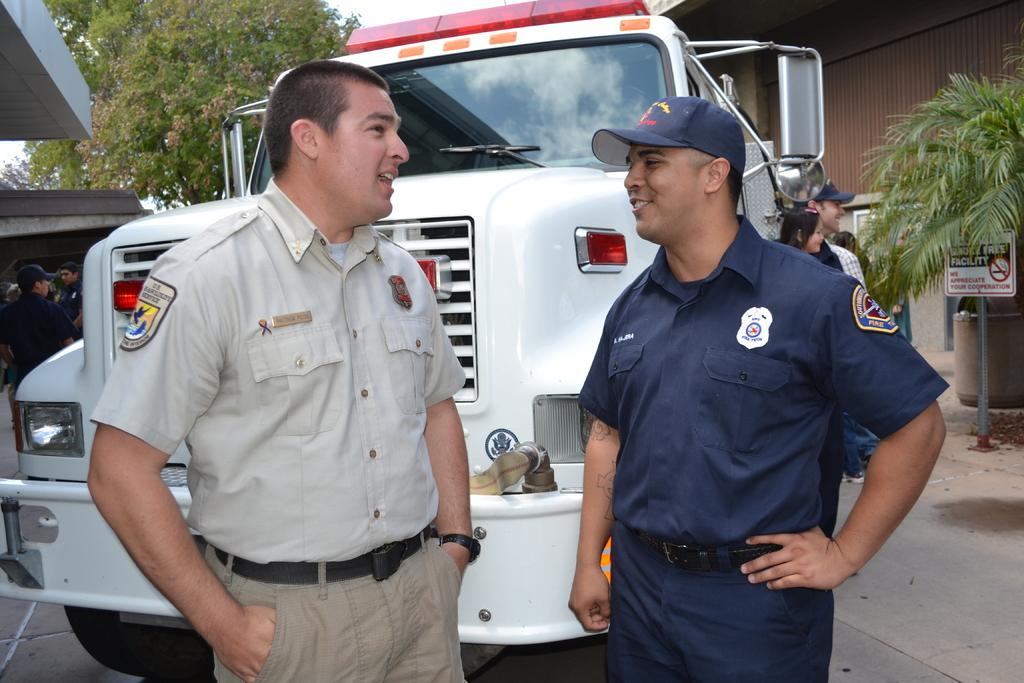Hat: (590, 92, 744, 184), (816, 178, 856, 208)
